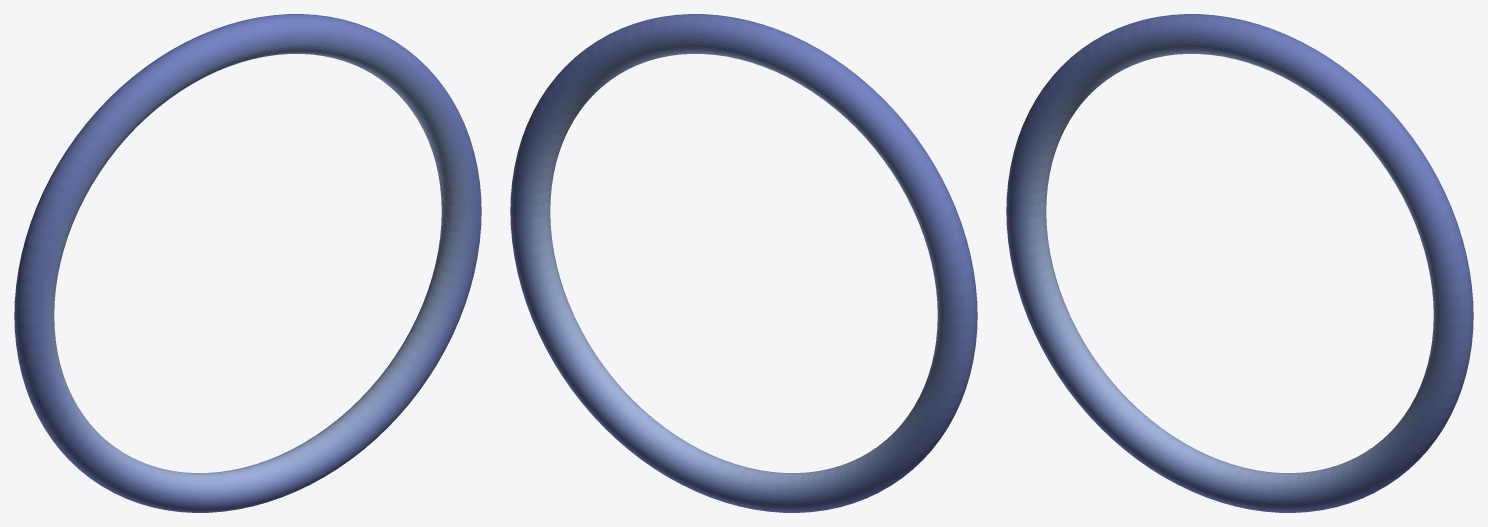
3 views of the same model, side by side, from view 1: azimuth 30°, elevation 25°; view 2: azimuth 150°, elevation 25°; view 3: azimuth 330°, elevation 25° (orthographic).
Parts seen in each view (by area): view 1: world; view 2: world; view 3: world.
Boxes of the visible parts, x1,y1,x2,y2 form: world: [14, 14, 481, 512]; world: [510, 14, 977, 512]; world: [1006, 14, 1473, 512].
Bounding box in the file's own units: 30.27 × 30.27 × 2.26.
